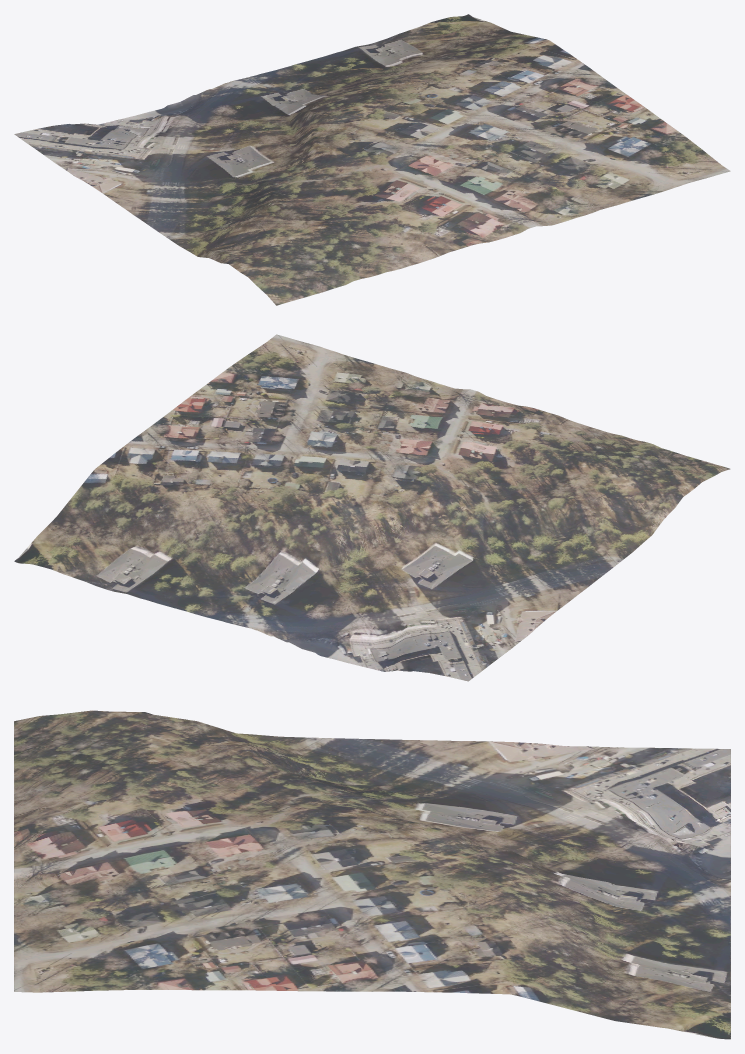
The model's file is CM_Terrain_24488206_6822456.fbx.
The picture shows the model from 3 angles, top to bottom: view 1: azimuth 30°, elevation 25°; view 2: azimuth 150°, elevation 25°; view 3: azimuth 270°, elevation 25°; orthographic projection. The views are drawn at different scales.
Visible parts, largest first — view 1: CM_Terrain_24488206_6822456_LOD0; view 2: CM_Terrain_24488206_6822456_LOD0; view 3: CM_Terrain_24488206_6822456_LOD0.
Boxes of the visible parts, left/top/right/bottom form: CM_Terrain_24488206_6822456_LOD0: left=14, top=14, right=730, bottom=305; CM_Terrain_24488206_6822456_LOD0: left=14, top=334, right=730, bottom=681; CM_Terrain_24488206_6822456_LOD0: left=14, top=710, right=730, bottom=1039.
Size of what is drawn, in the model's own units: 205 by 24.92 by 205.
